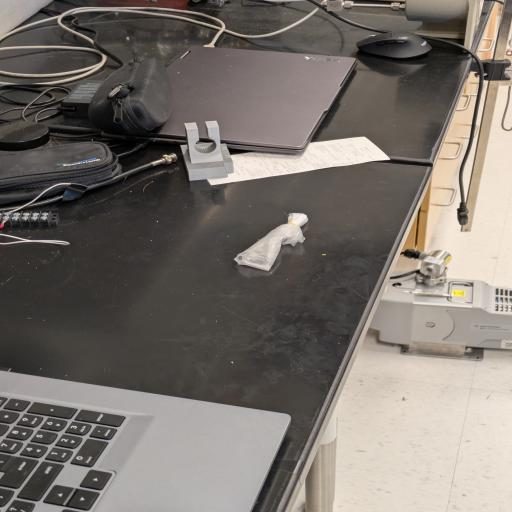rubberband: (229, 210, 313, 274)
